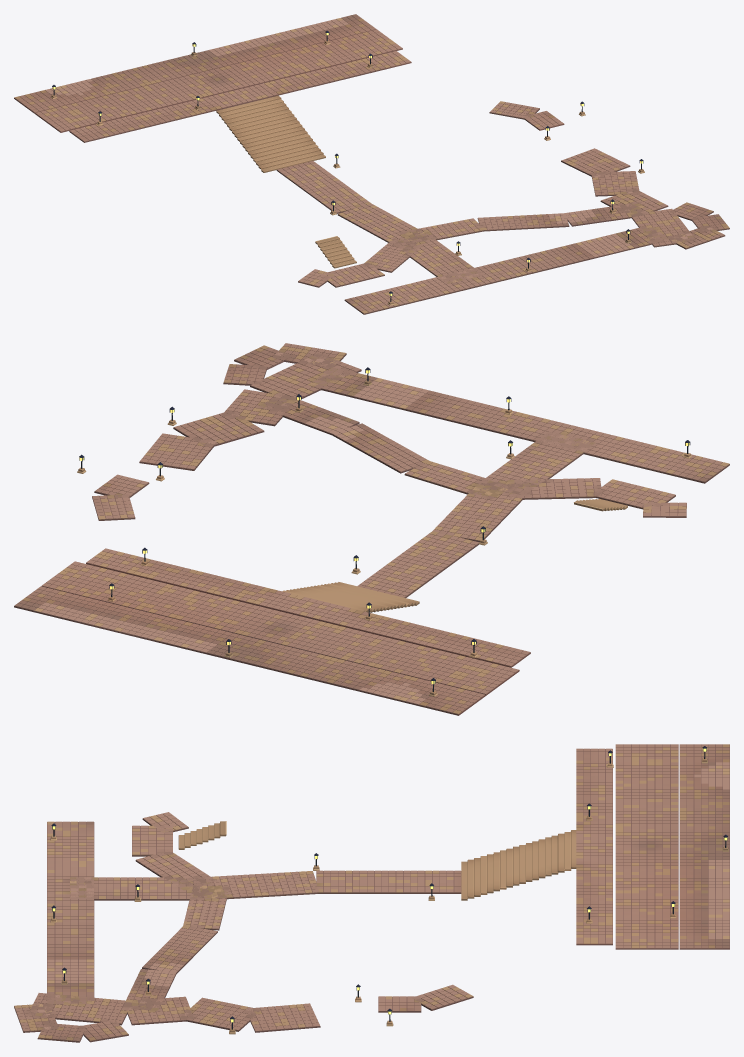
Rendered from paving.glb.
The picture shows the model from 3 angles, top to bottom: view 1: azimuth 30°, elevation 25°; view 2: azimuth 150°, elevation 25°; view 3: azimuth 270°, elevation 25°; orthographic projection. The views are drawn at different scales.
Parts seen in each view (by area): view 1: paving; view 2: paving; view 3: paving.
Part boxes in pixels (bbox=[...]): paving: bbox=[14, 14, 729, 314]; paving: bbox=[14, 343, 729, 715]; paving: bbox=[14, 744, 729, 1042].
Size of the model in its own units: 58.99 by 5.56 by 68.2.
